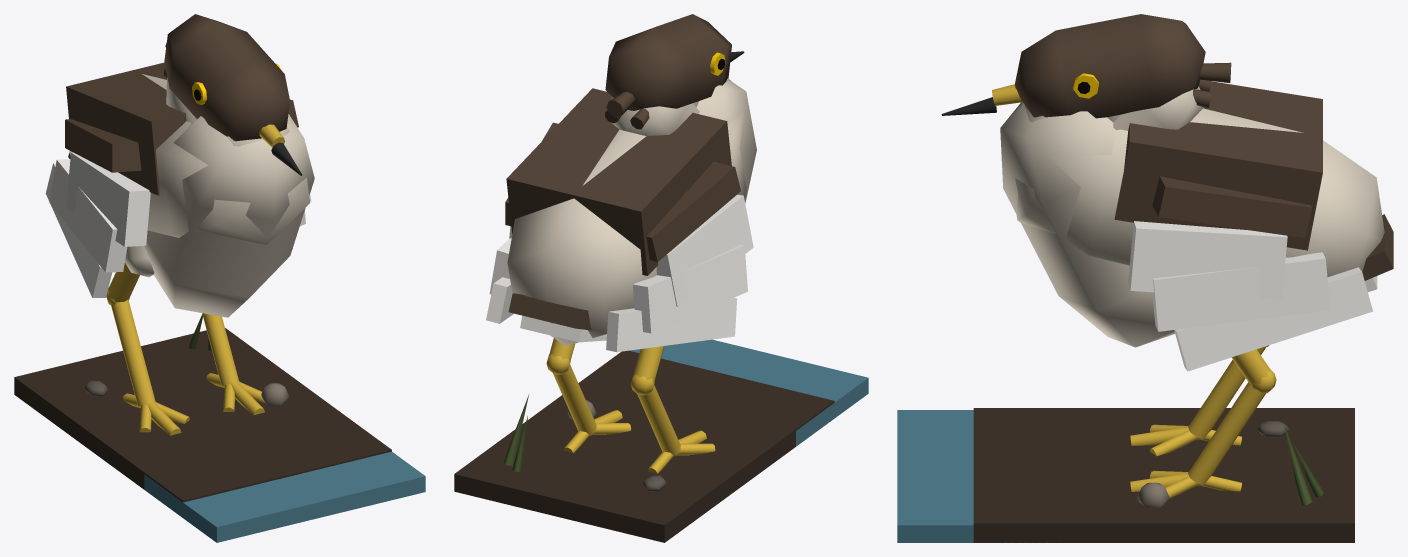
File: pond-heron.glb
3 renders of one model, left to right at view 1: azimuth 30°, elevation 25°; view 2: azimuth 150°, elevation 25°; view 3: azimuth 270°, elevation 25°, orthographic. The views are drawn at different scales.
Visible parts, largest first — view 1: Mesh_MudBase, Mesh_Breast, Mesh_WaterBase, Mesh_HeadMesh, Mesh_Mantle, Mesh_BodyCore, Mesh_WingUpperR, Mesh_WingMidR, Mesh_ScapularR, Mesh_TarsusR, Mesh_WingLowerR, Mesh_TarsusL (+5 smaller); view 2: Mesh_MudBase, Mesh_Mantle, Mesh_BodyCore, Mesh_HeadMesh, Mesh_WaterBase, Mesh_WingMidR, Mesh_WingUpperR, Mesh_WingLowerR, Mesh_ScapularR, Mesh_Breast, Mesh_Tail, Mesh_NeckMid (+6 smaller); view 3: Mesh_MudBase, Mesh_Mantle, Mesh_Breast, Mesh_BodyCore, Mesh_HeadMesh, Mesh_WaterBase, Mesh_WingMidL, Mesh_WingUpperL, Mesh_WingLowerL, Mesh_ScapularL, Mesh_TarsusL, Mesh_NeckMid (+6 smaller).
Boxes of the visible parts, bbox=[...] form: Mesh_MudBase: bbox=[14, 328, 391, 517]; Mesh_Breast: bbox=[144, 114, 314, 317]; Mesh_WaterBase: bbox=[144, 451, 425, 542]; Mesh_HeadMesh: bbox=[164, 14, 289, 141]; Mesh_Mantle: bbox=[66, 62, 186, 195]; Mesh_BodyCore: bbox=[69, 73, 310, 244]; Mesh_WingUpperR: bbox=[66, 152, 150, 246]; Mesh_WingMidR: bbox=[49, 159, 127, 272]; Mesh_ScapularR: bbox=[65, 119, 141, 172]; Mesh_TarsusR: bbox=[111, 299, 155, 406]; Mesh_WingLowerR: bbox=[45, 162, 112, 297]; Mesh_TarsusL: bbox=[202, 313, 239, 386]; Mesh_MudBase: bbox=[454, 350, 834, 542]; Mesh_Mantle: bbox=[506, 88, 731, 275]; Mesh_BodyCore: bbox=[507, 111, 746, 346]; Mesh_HeadMesh: bbox=[605, 14, 731, 110]; Mesh_WaterBase: bbox=[630, 339, 868, 446]; Mesh_WingMidR: bbox=[633, 244, 747, 333]; Mesh_WingUpperR: bbox=[656, 194, 753, 306]; Mesh_WingLowerR: bbox=[606, 297, 737, 352]; Mesh_ScapularR: bbox=[646, 161, 740, 261]; Mesh_Breast: bbox=[696, 81, 756, 202]; Mesh_Tail: bbox=[508, 293, 592, 330]; Mesh_NeckMid: bbox=[611, 97, 699, 136]; Mesh_MudBase: bbox=[973, 408, 1354, 542]; Mesh_Mantle: bbox=[1114, 81, 1322, 250]; Mesh_Breast: bbox=[1000, 102, 1174, 347]; Mesh_BodyCore: bbox=[1015, 108, 1384, 277]; Mesh_HeadMesh: bbox=[1015, 14, 1205, 118]; Mesh_WaterBase: bbox=[897, 410, 1059, 542]; Mesh_WingMidL: bbox=[1152, 252, 1330, 331]; Mesh_WingUpperL: bbox=[1128, 221, 1287, 299]; Mesh_WingLowerL: bbox=[1174, 267, 1372, 371]; Mesh_ScapularL: bbox=[1152, 176, 1311, 238]; Mesh_TarsusL: bbox=[1188, 382, 1265, 485]; Mesh_NeckMid: bbox=[1113, 86, 1203, 130].
Size of the model in its own units: 0.25 by 0.4772 by 0.4555.
